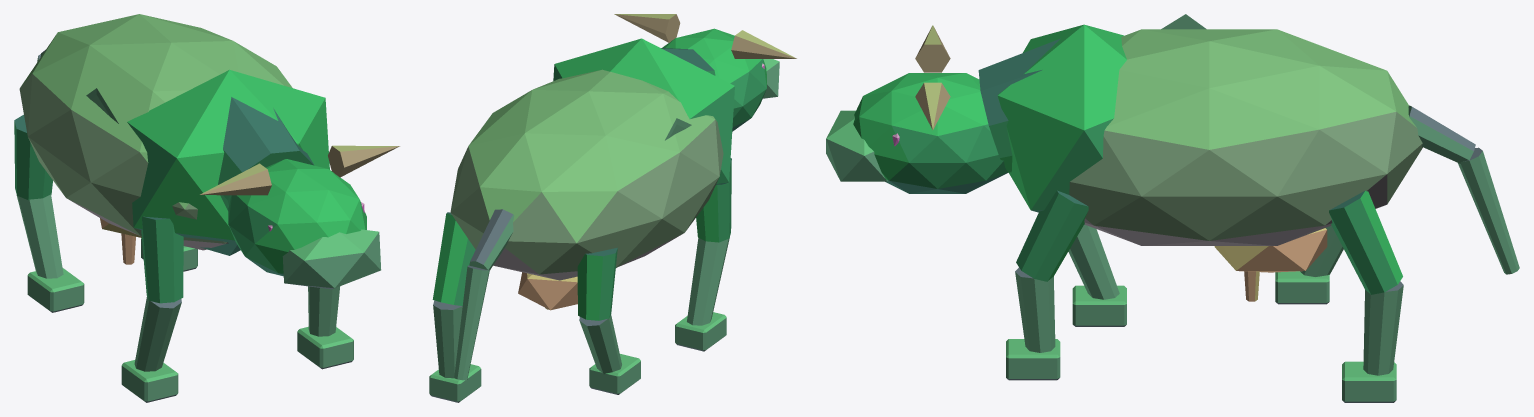
Rendered from creature_cow_up_b_v01.glb.
3 renders of one model, left to right at view 1: azimuth 30°, elevation 25°; view 2: azimuth 150°, elevation 25°; view 3: azimuth 270°, elevation 25°, orthographic. The views are drawn at different scales.
Parts seen in each view (by area): view 1: GEO_creature_cow_up_b_v01; view 2: GEO_creature_cow_up_b_v01; view 3: GEO_creature_cow_up_b_v01.
Part boxes in pixels (x1,y1,x2,y2): GEO_creature_cow_up_b_v01: (14, 14, 399, 402); GEO_creature_cow_up_b_v01: (429, 14, 796, 402); GEO_creature_cow_up_b_v01: (826, 14, 1519, 402).
Size of the model in its own units: 1.18 by 1.55 by 2.93.
